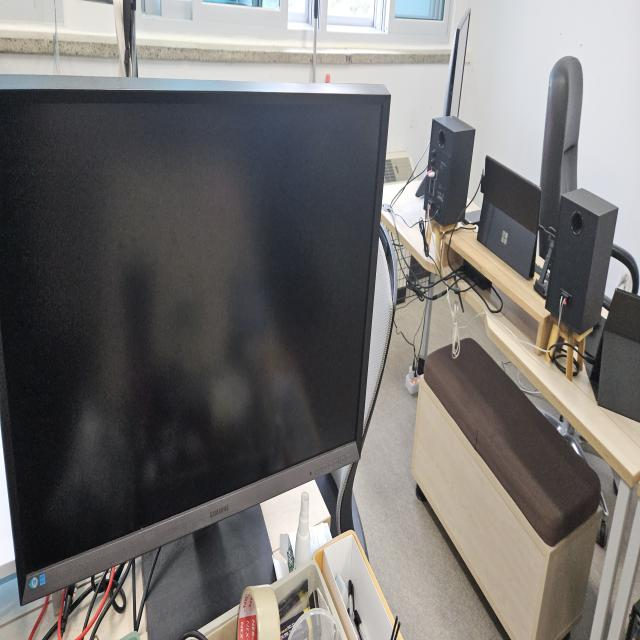Monitor: (1, 72, 393, 604)
